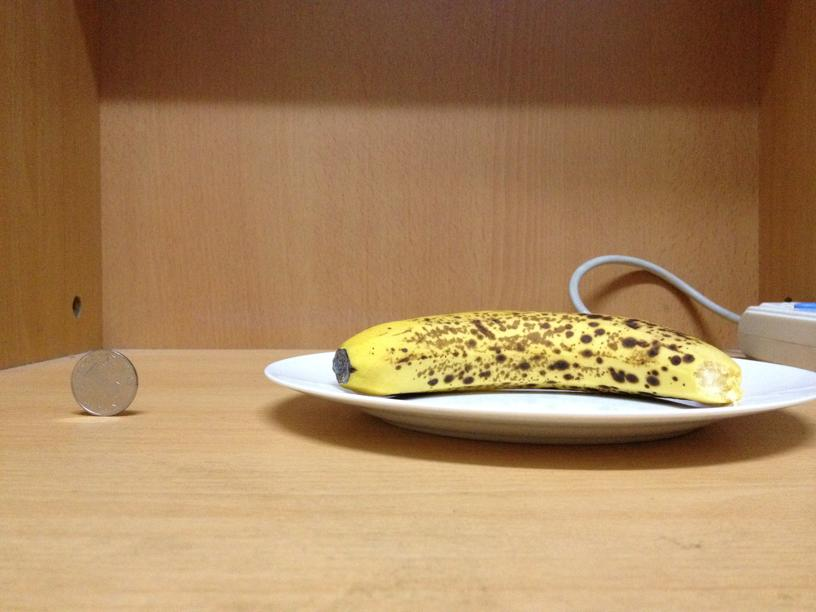banana: (332, 308, 736, 400)
coin: (66, 346, 138, 416)
